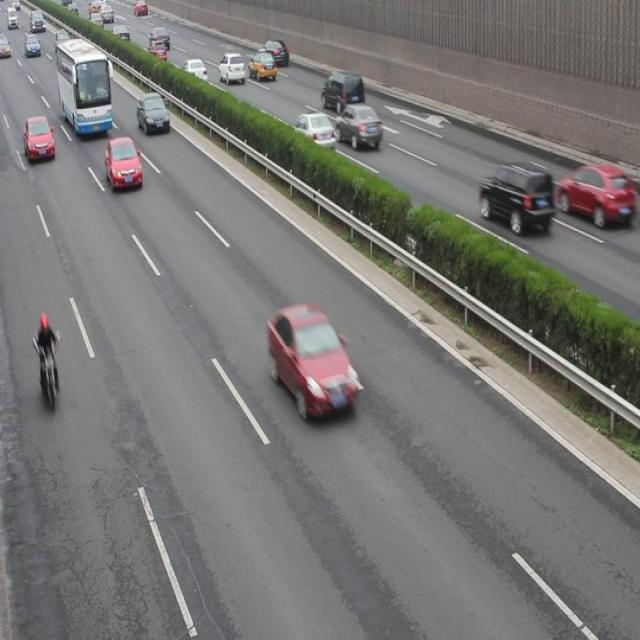car: (266, 304, 353, 419), (477, 162, 554, 238), (557, 164, 640, 228), (334, 104, 380, 151), (104, 136, 141, 192), (293, 112, 335, 150), (23, 117, 56, 163), (136, 95, 171, 134), (248, 51, 275, 84), (218, 52, 244, 84), (259, 39, 289, 65), (181, 58, 207, 83), (148, 36, 168, 62), (149, 27, 170, 49), (110, 22, 128, 42)
truck: (320, 72, 364, 114)
van: (56, 36, 114, 138)
